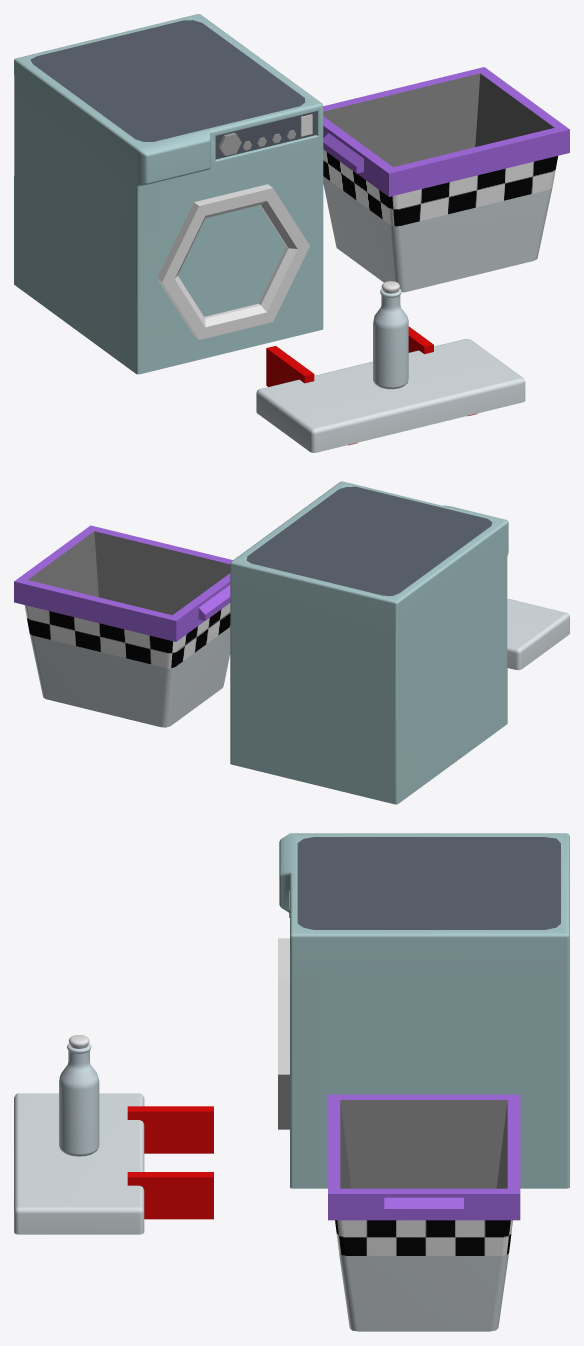
The model's file is Level_1.fbx.
3 views of the same model, one above another, from view 1: azimuth 30°, elevation 25°; view 2: azimuth 150°, elevation 25°; view 3: azimuth 270°, elevation 25° (orthographic). The views are drawn at different scales.
Visible parts, largest first — view 1: Box (×2), Stand, Glass, Bottle; view 2: Box (×2), Stand; view 3: Box (×2), Stand, Bottle, Glass.
Boxes of the visible parts, left/top/right/bottom form: Box (×2): left=14, top=14, right=569, bottom=374; Stand: left=256, top=326, right=525, bottom=452; Glass: left=157, top=184, right=309, bottom=339; Bottle: left=373, top=281, right=408, bottom=389; Box (×2): left=14, top=481, right=508, bottom=804; Stand: left=507, top=598, right=569, bottom=670; Box (×2): left=279, top=833, right=569, bottom=1331; Stand: left=14, top=1093, right=213, bottom=1234; Bottle: left=59, top=1035, right=99, bottom=1156; Glass: left=278, top=938, right=289, bottom=1129.
Size of the model in its own units: 6.88 by 3.38 by 6.45.
Materials: 13 (1 with a texture image).
